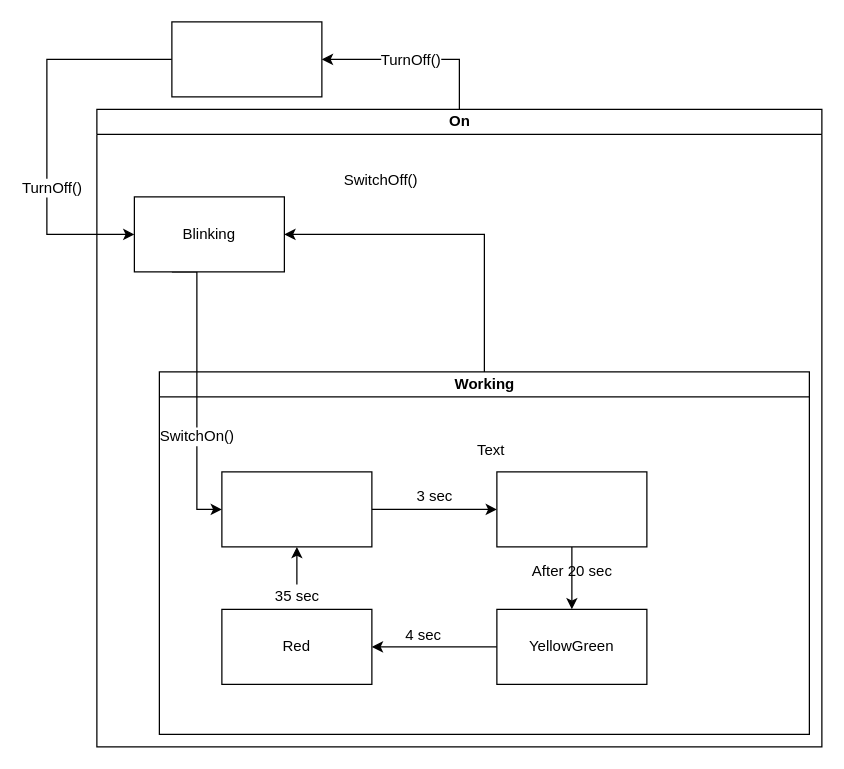
Some shapes in this 844 by 769 pixel diagram are drawn without their labels. Here are the shapes that lost their labels. From the top down, the centre of each, then its label:
At point (246, 59): "OFF".
At point (296, 509): "RedYellow".
At point (571, 509): "Green".
